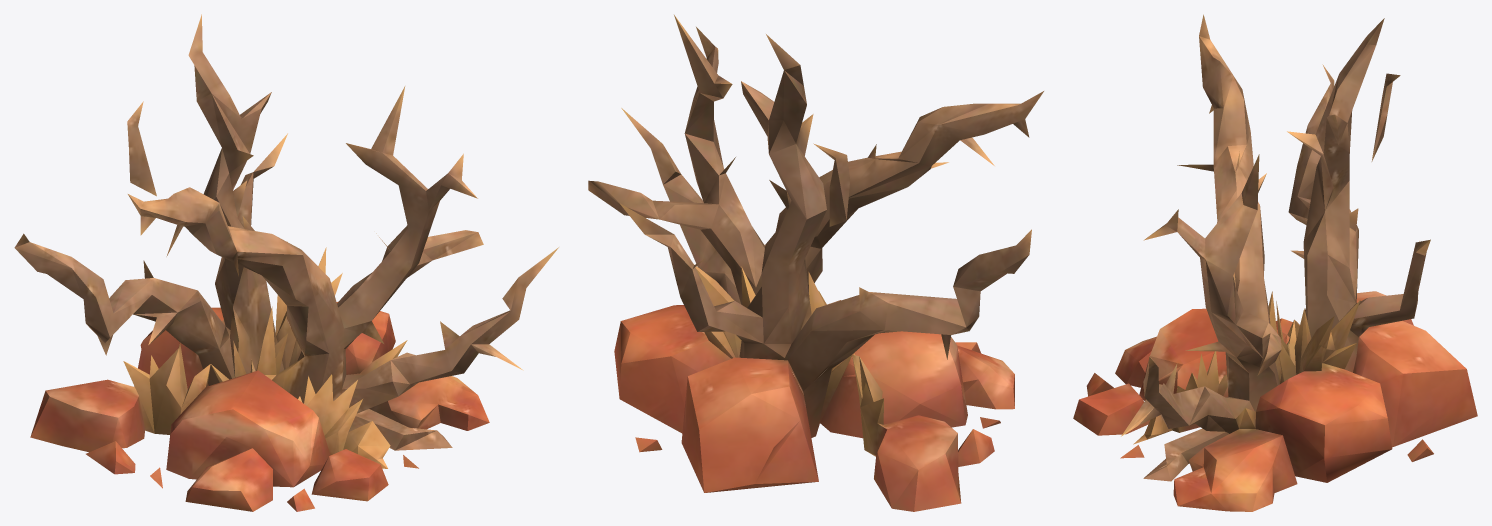
Rendered from dry_shrub.glb.
The picture shows the model from 3 angles, left to right: view 1: azimuth 30°, elevation 25°; view 2: azimuth 150°, elevation 25°; view 3: azimuth 270°, elevation 25°; orthographic projection. The views are drawn at different scales.
Parts seen in each view (by area): view 1: body; view 2: body; view 3: body.
Boxes of the visible parts, x1,y1,x2,y2 form: body: (14,14,558,511); body: (588,15,1043,511); body: (1073,14,1477,511).
Bounding box in the file's own units: 0.4979 × 0.4 × 0.3706.
1 material, 1 textured.
